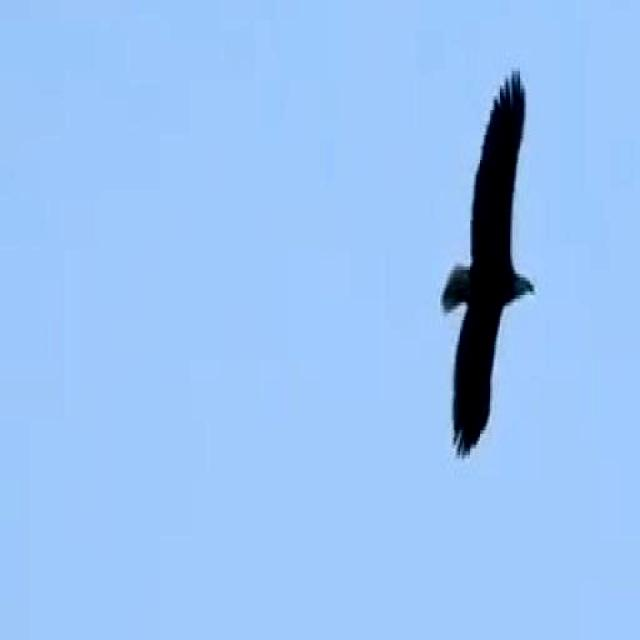airplane: (438, 60, 552, 464)
